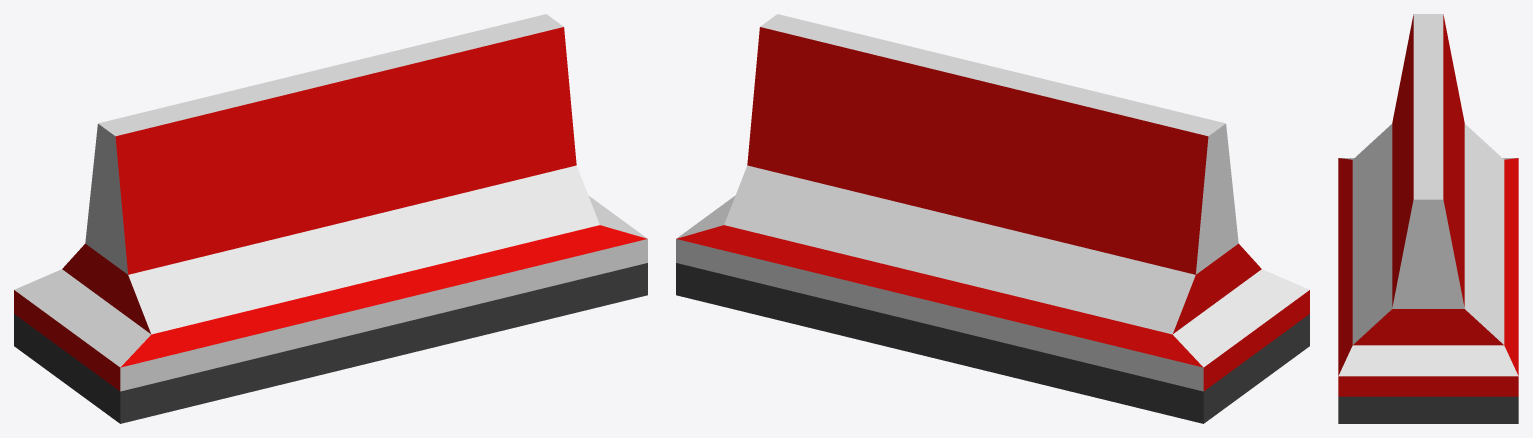
Rendered from Border2.fbx.
3 views of the same model, side by side, from view 1: azimuth 30°, elevation 25°; view 2: azimuth 150°, elevation 25°; view 3: azimuth 270°, elevation 25° (orthographic). The views are drawn at different scales.
Visible parts, largest first — view 1: Cube; view 2: Cube; view 3: Cube.
Part boxes in pixels (left/top/right/bottom): Cube: left=14, top=14, right=647, bottom=423; Cube: left=676, top=14, right=1309, bottom=423; Cube: left=1338, top=14, right=1518, bottom=423.
Bounding box in the file's own units: 200 × 573 × 255.
